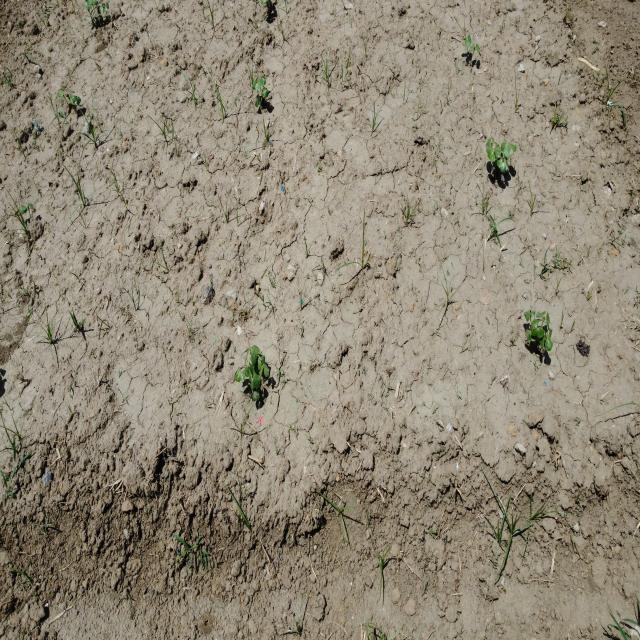seedling: (251, 345, 260, 364), (501, 142, 511, 158), (531, 327, 545, 338), (545, 333, 553, 351), (246, 345, 254, 362), (497, 158, 506, 173), (253, 371, 260, 389), (235, 370, 246, 381), (494, 144, 502, 159), (255, 78, 264, 91), (85, 0, 97, 9), (464, 35, 472, 47), (488, 149, 495, 162), (485, 138, 491, 153), (531, 319, 540, 329), (19, 205, 28, 214), (262, 88, 270, 98), (249, 362, 254, 377), (509, 143, 517, 152), (98, 6, 105, 16), (252, 391, 259, 401), (264, 363, 269, 377), (525, 330, 532, 340), (252, 79, 258, 90), (469, 43, 475, 54), (524, 310, 530, 321), (249, 373, 253, 388), (258, 359, 263, 371), (536, 311, 546, 317), (546, 313, 550, 327), (245, 365, 250, 376), (260, 363, 264, 376), (540, 337, 544, 350), (504, 158, 509, 168), (75, 97, 81, 105), (70, 95, 76, 103), (58, 89, 63, 97), (261, 77, 266, 85), (255, 98, 259, 107), (261, 355, 265, 364), (476, 44, 480, 53), (104, 3, 109, 9), (532, 311, 536, 318)
